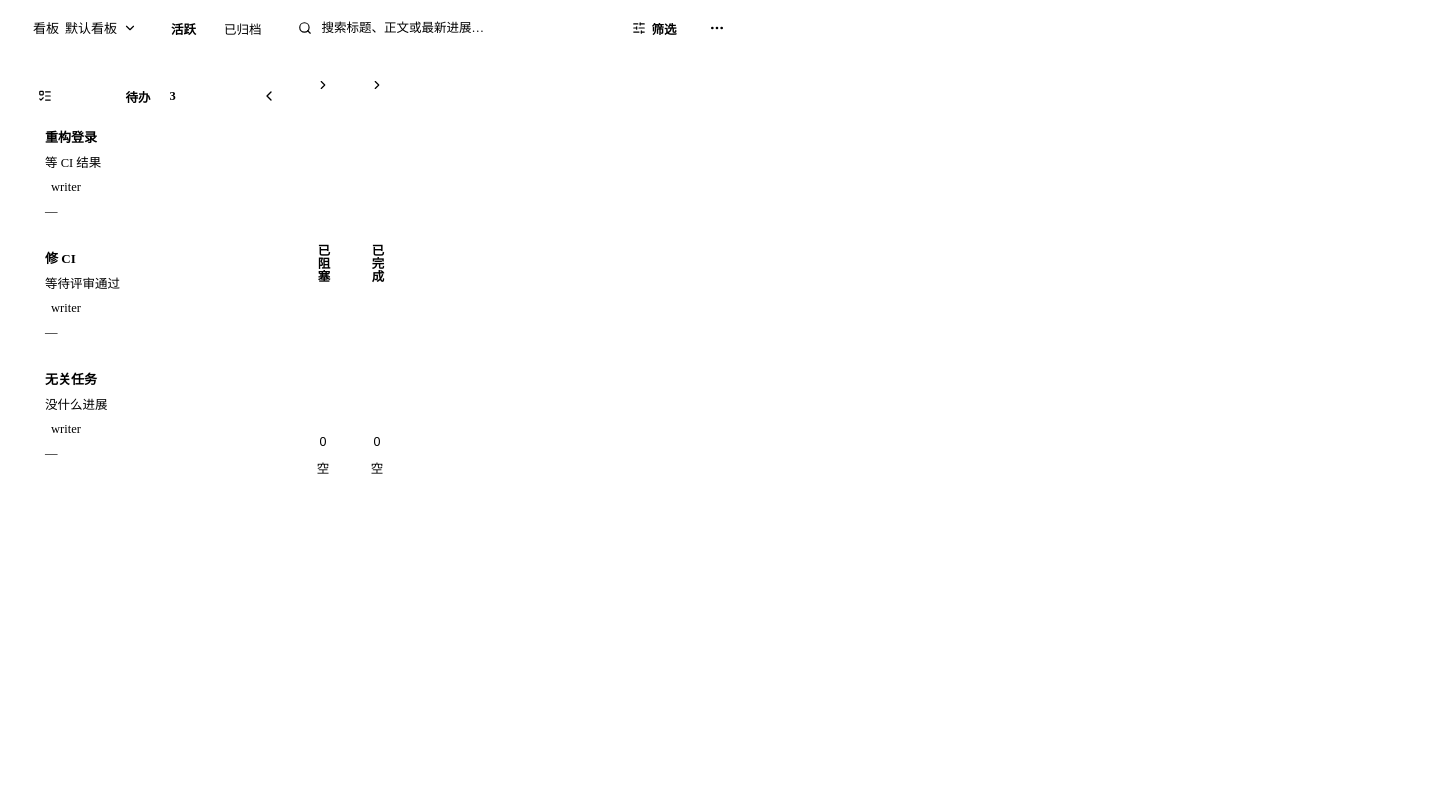
Test: KanbanRoute 编排与看板管理 › 空 slug 时创建按钮禁用
The width and height of the screenshot is (1440, 810).
Click the button named "更多操作": (717, 28) [701, 12, 733, 44]
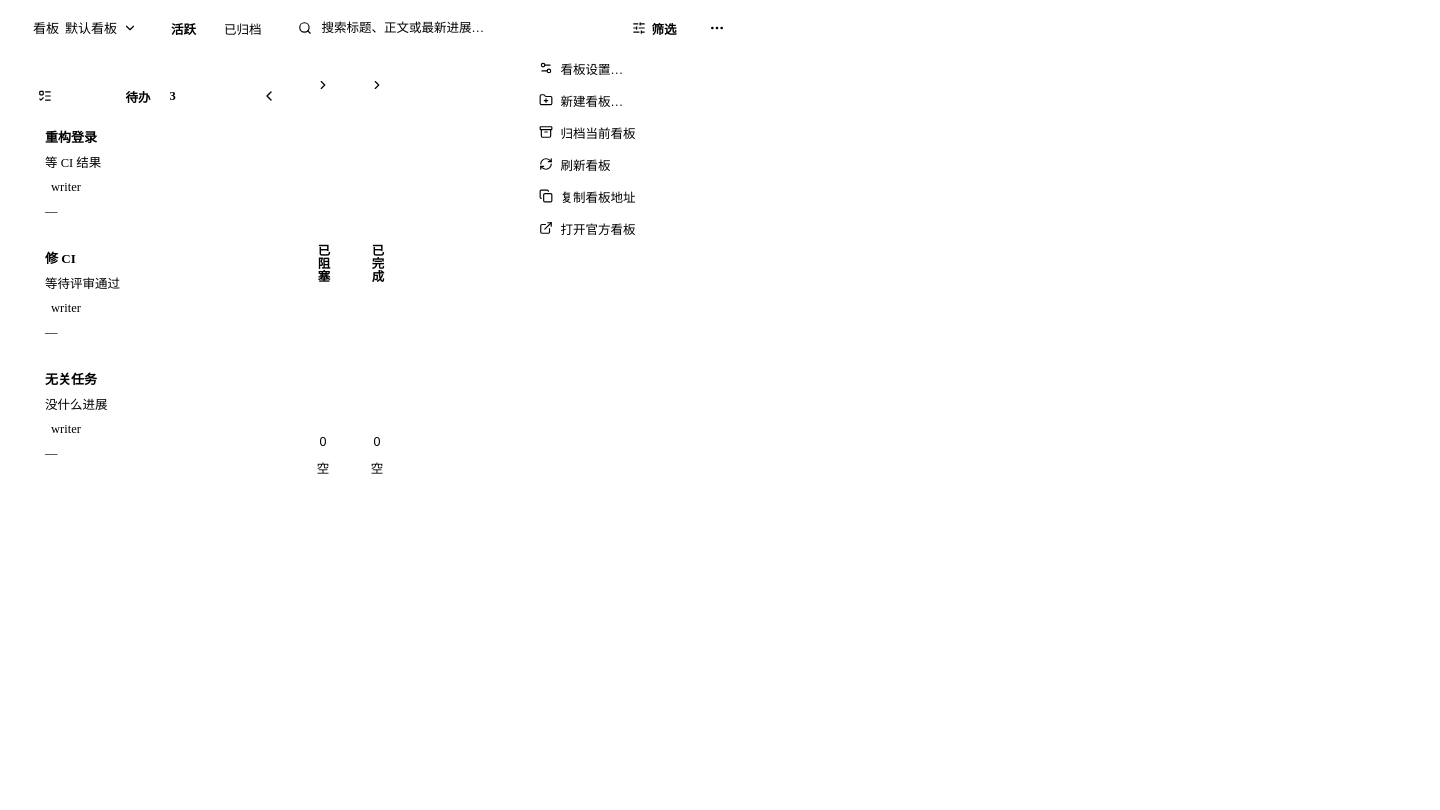
Click the menu item "新建看板…": (629, 100) [529, 84, 729, 116]
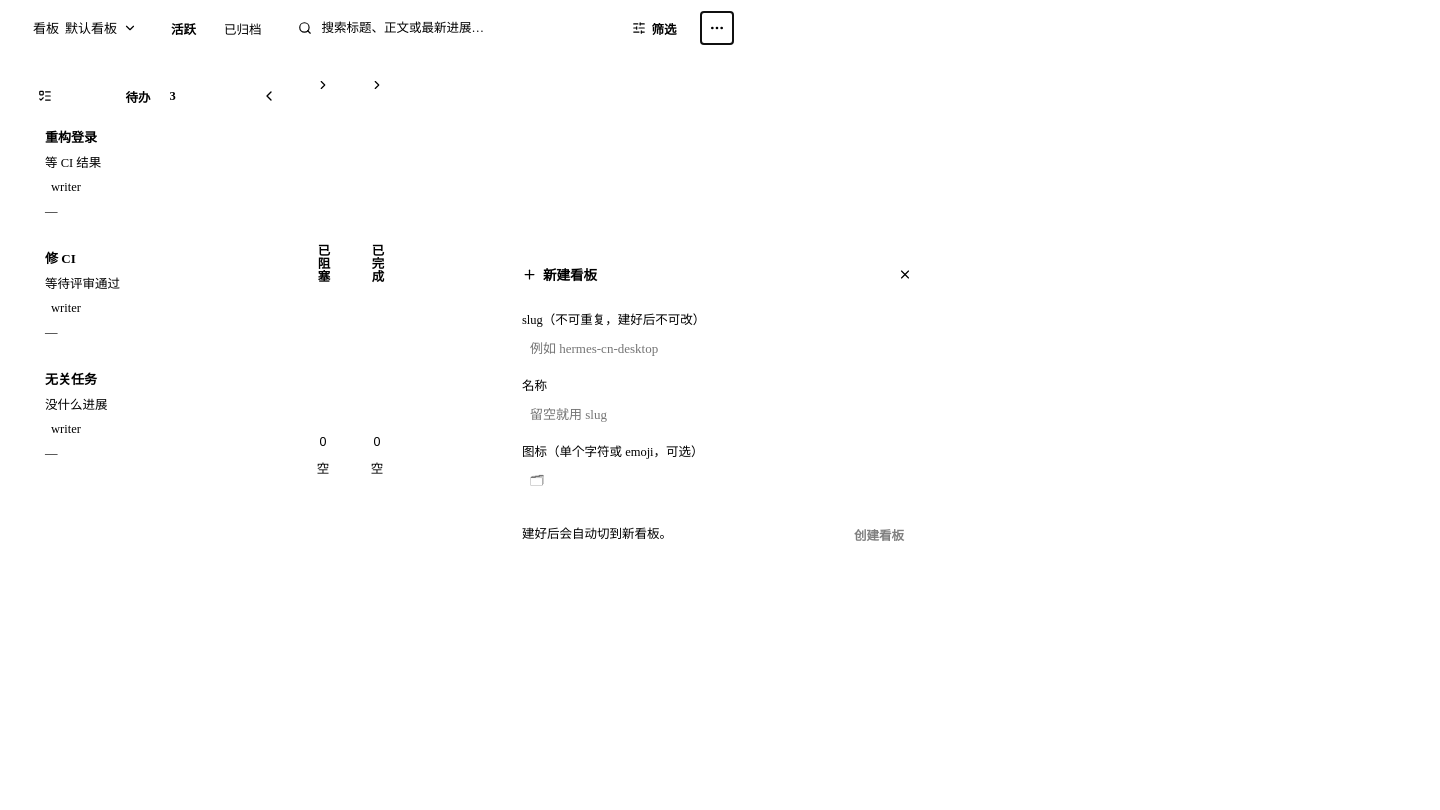
Now the button "创建看板" is disabled, box [840, 519, 918, 549]
